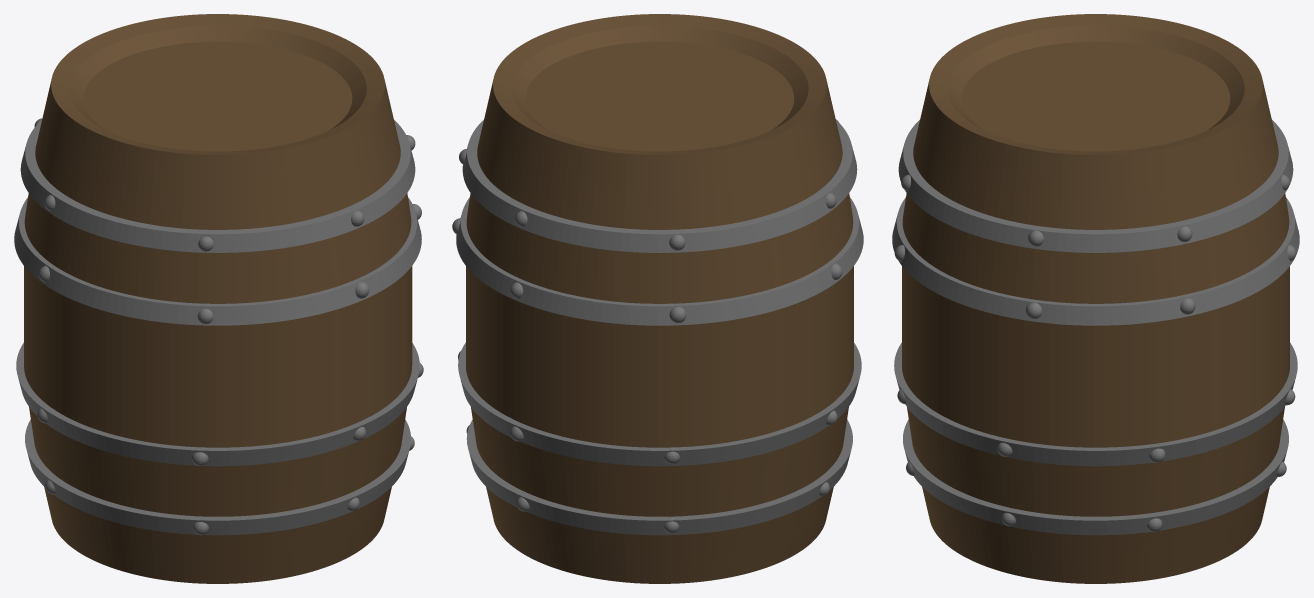
Rendered from Wooden Barell.glb.
3 renders of one model, left to right at view 1: azimuth 30°, elevation 25°; view 2: azimuth 150°, elevation 25°; view 3: azimuth 270°, elevation 25°, orthographic.
Visible parts, largest first — view 1: Cylinder, Cylinder.001, Cylinder.002, Cylinder.004, Cylinder.003; view 2: Cylinder, Cylinder.001, Cylinder.002, Cylinder.004, Cylinder.003; view 3: Cylinder, Cylinder.001, Cylinder.002, Cylinder.004, Cylinder.003.
Part boxes in pixels (x1,y1,x2,y2): Cylinder: [24, 14, 412, 583]; Cylinder.001: [20, 118, 415, 252]; Cylinder.002: [14, 197, 421, 325]; Cylinder.004: [16, 342, 423, 466]; Cylinder.003: [25, 419, 414, 535]; Cylinder: [466, 14, 853, 583]; Cylinder.001: [459, 119, 857, 252]; Cylinder.002: [452, 197, 863, 325]; Cylinder.004: [458, 342, 861, 466]; Cylinder.003: [466, 419, 852, 535]; Cylinder: [902, 14, 1289, 583]; Cylinder.001: [898, 120, 1293, 252]; Cylinder.002: [892, 197, 1299, 325]; Cylinder.004: [894, 342, 1297, 466]; Cylinder.003: [903, 419, 1288, 535].
Size of the model in its own units: 2.03 by 2.34 by 2.02.
